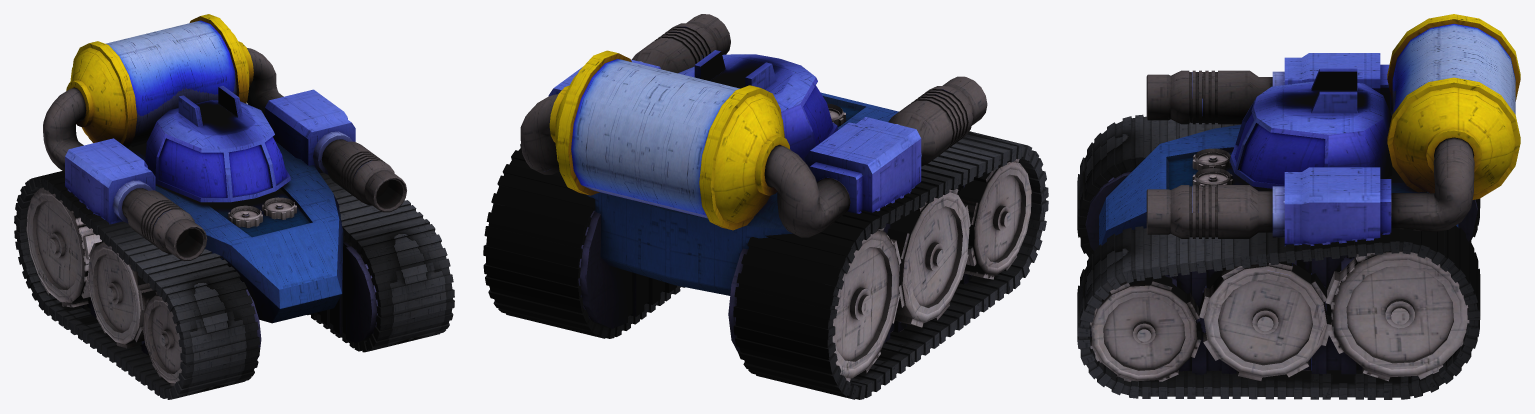
Rendered from PlayerB8.obj.
The picture shows the model from 3 angles, left to right: view 1: azimuth 30°, elevation 25°; view 2: azimuth 150°, elevation 25°; view 3: azimuth 270°, elevation 25°; orthographic projection. The views are drawn at different scales.
Visible parts, largest first — view 1: Object001, Box042, Object004, Object003, Object002; view 2: Object001, Box042, Object003, Object004, Object002; view 3: Object001, Box042, Object004, Object003, Object002.
Boxes of the visible parts, bbox=[...] form: Object001: bbox=[43, 14, 406, 359]; Box042: bbox=[14, 171, 454, 399]; Object004: bbox=[26, 187, 101, 307]; Object003: bbox=[87, 241, 155, 348]; Object002: bbox=[142, 291, 182, 386]; Object001: bbox=[520, 14, 987, 352]; Box042: bbox=[483, 131, 1048, 399]; Object003: bbox=[887, 189, 970, 327]; Object004: bbox=[832, 228, 901, 381]; Object002: bbox=[958, 159, 1031, 279]; Object001: bbox=[1085, 14, 1520, 374]; Box042: bbox=[1077, 114, 1480, 399]; Object004: bbox=[1325, 251, 1469, 381]; Object003: bbox=[1199, 261, 1331, 380]; Object002: bbox=[1090, 275, 1201, 381].
Bounding box in the file's own units: 121 × 100 × 147.
2 materials, 2 textured.
